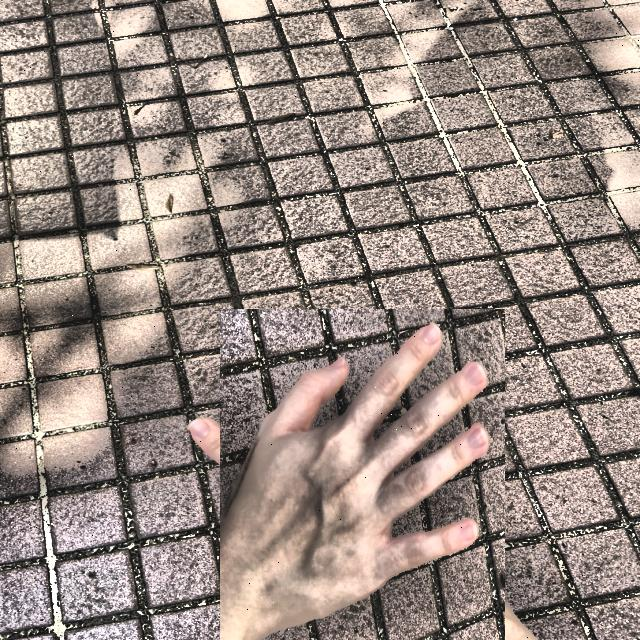not-gloved: (196, 331, 527, 640)
